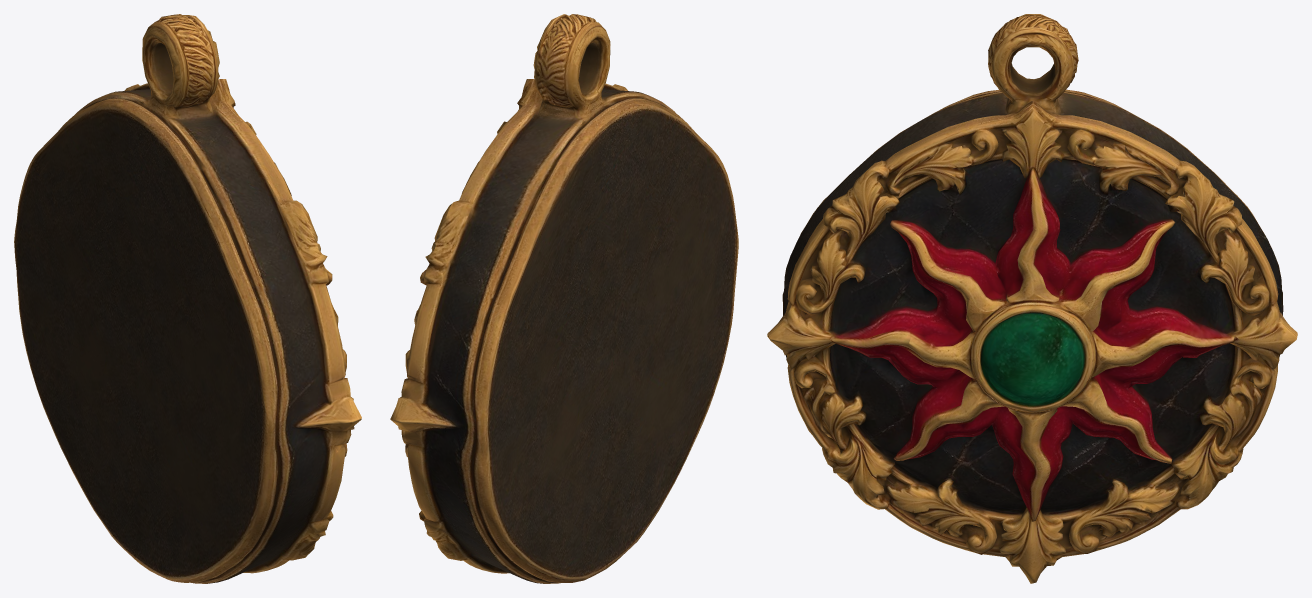
File: relic_01_sanctum_seal-m3wOSc-E.glb
The picture shows the model from 3 angles, left to right: view 1: azimuth 30°, elevation 25°; view 2: azimuth 150°, elevation 25°; view 3: azimuth 270°, elevation 25°; orthographic projection. The views are drawn at different scales.
Size of the model in its own units: 0.2471 by 1 by 0.8842.
Materials: 1 (1 with a texture image).
